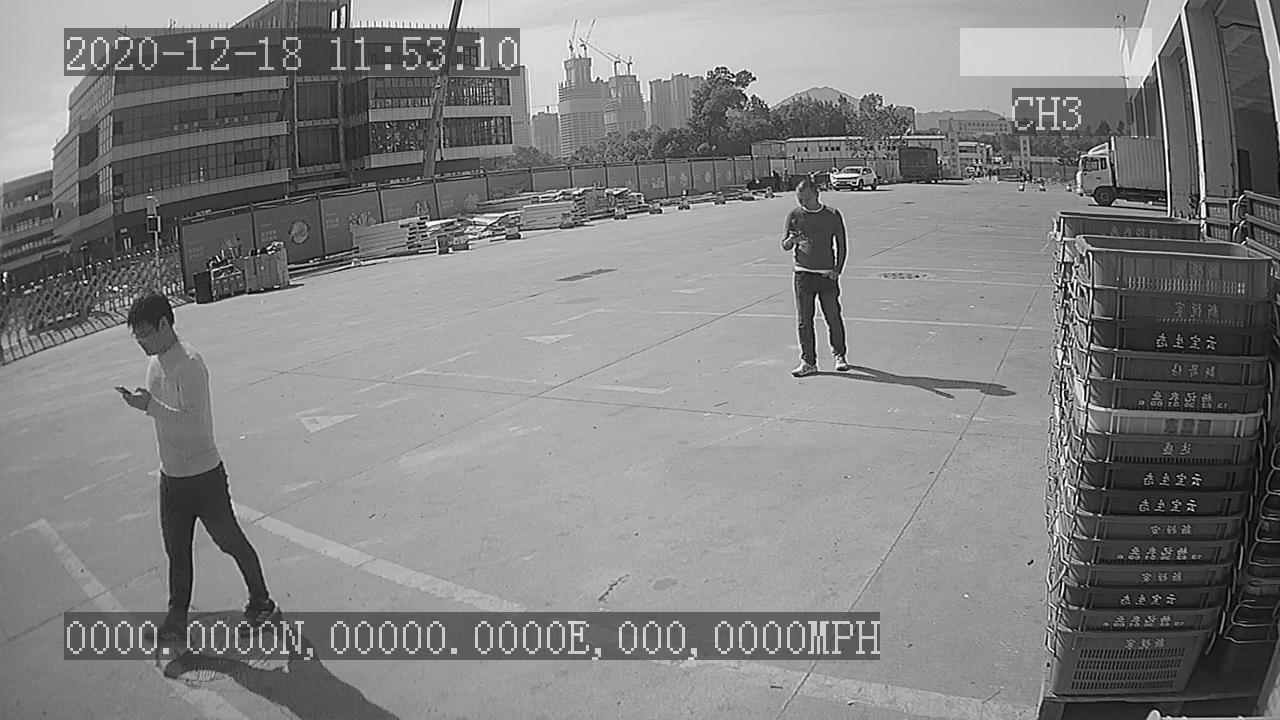person: (776, 176, 856, 381)
